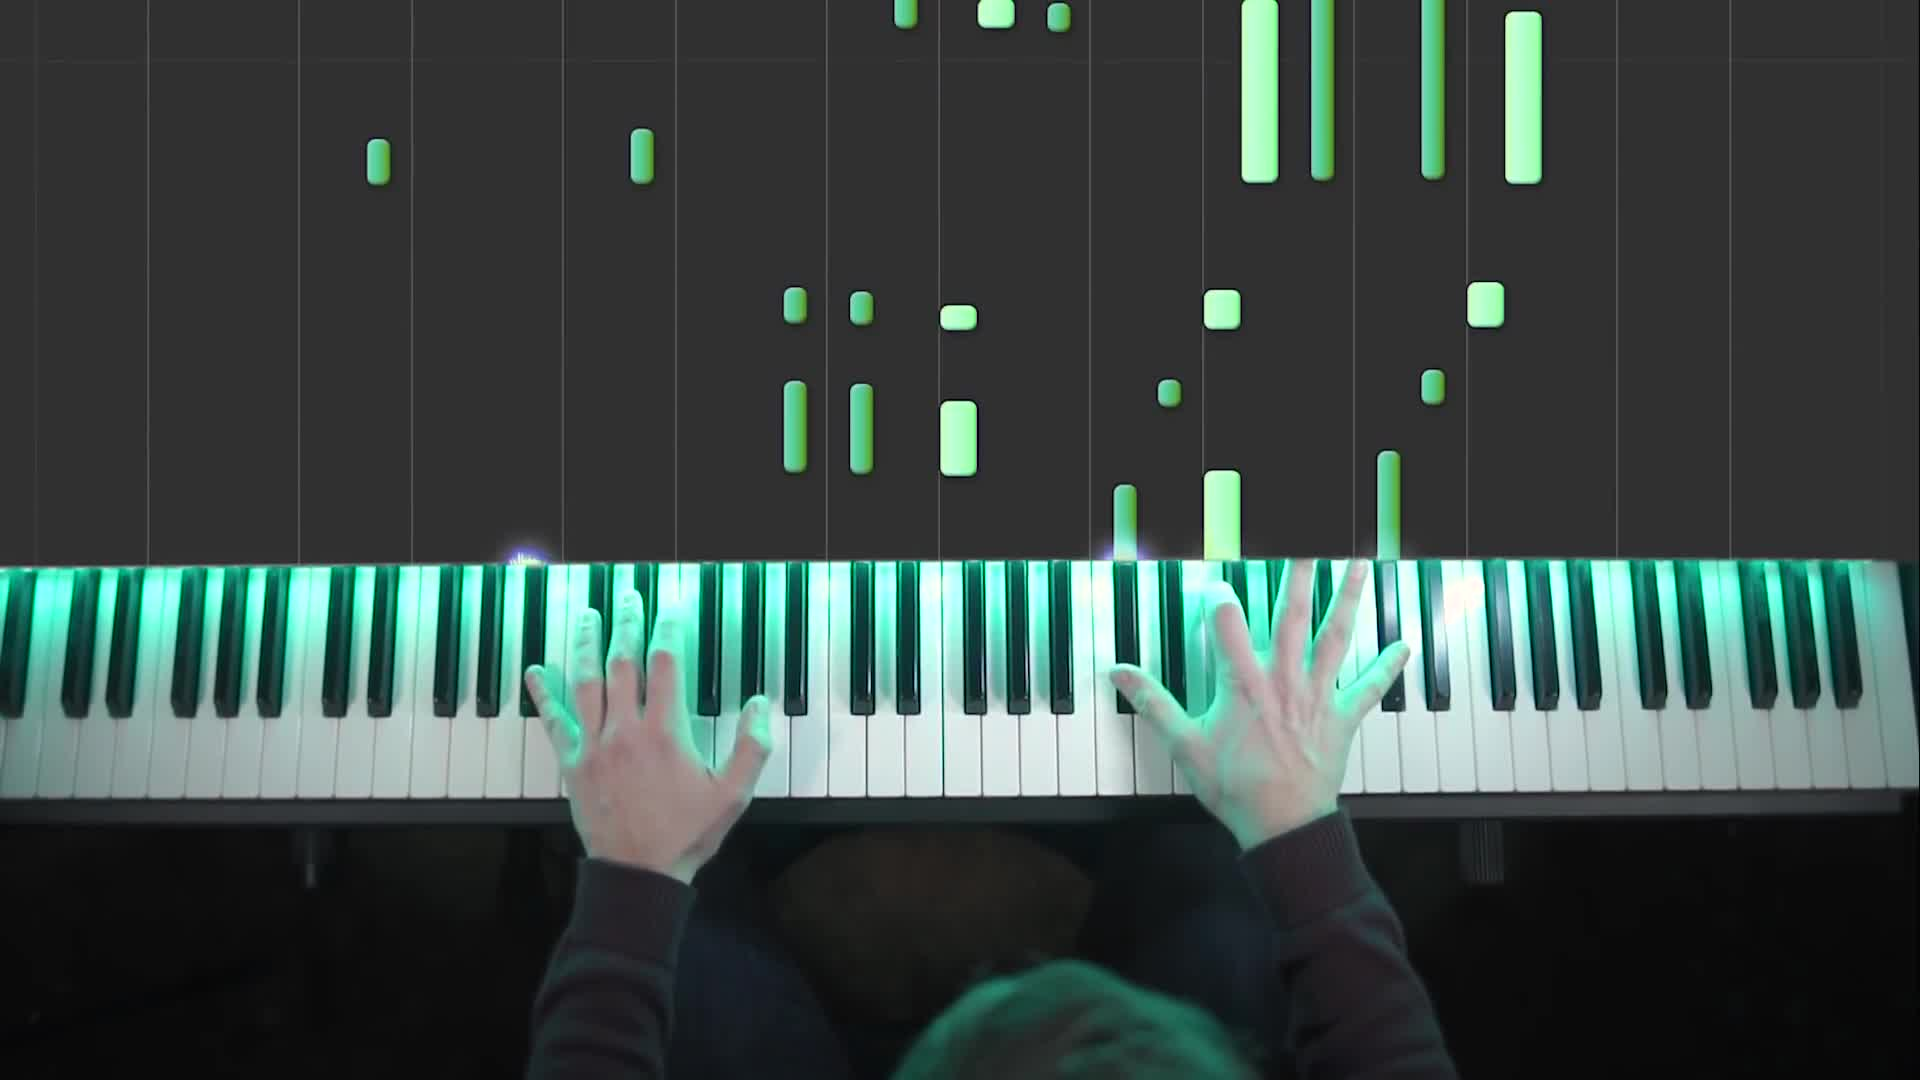left: (521, 591, 771, 887)
right: (1108, 556, 1411, 827)
